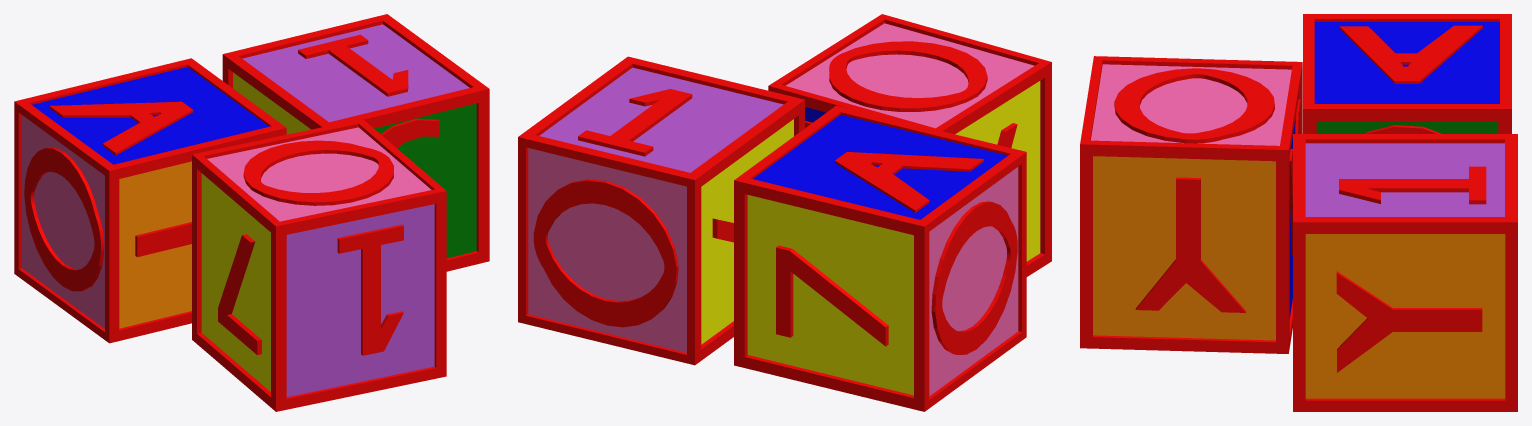
3 views of the same model, side by side, from view 1: azimuth 30°, elevation 25°; view 2: azimuth 150°, elevation 25°; view 3: azimuth 270°, elevation 25° (orthographic). The views are drawn at different scales.
Parts seen in each view (by area): view 1: blocks; view 2: blocks; view 3: blocks.
Part boxes in pixels (x1,y1,x2,y2): blocks: (14,14,489,411); blocks: (518,14,1051,411); blocks: (1080,14,1517,411).
Bounding box in the file's own units: 82.67 × 39.71 × 75.88.
